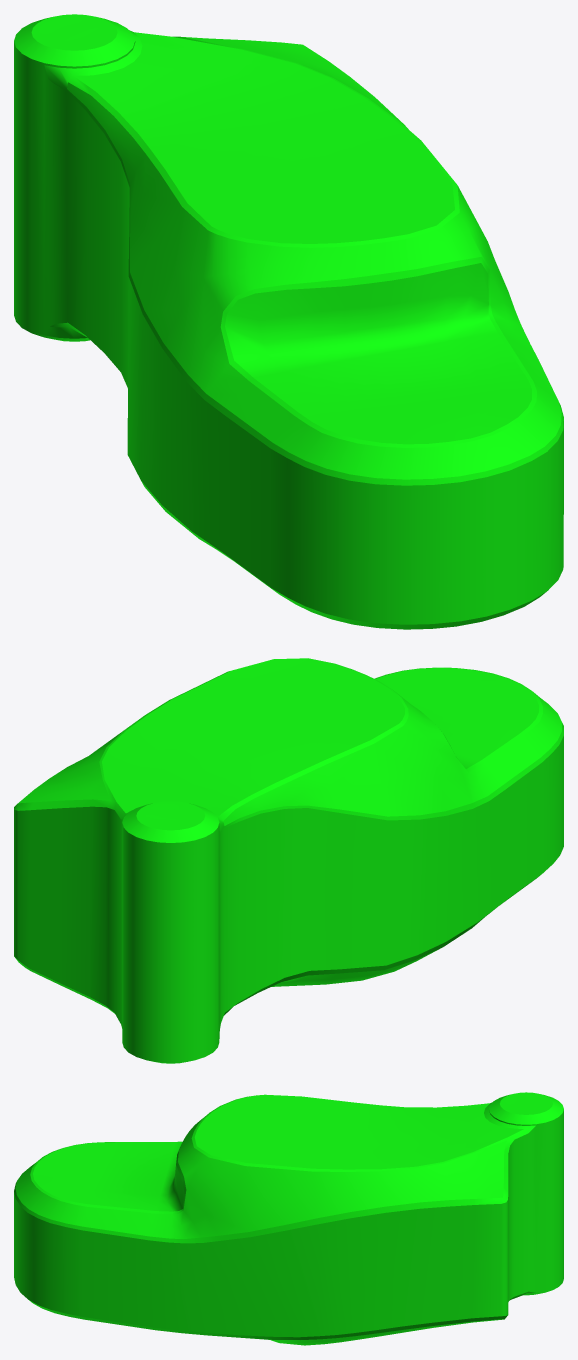
Rendered from RightThigh.obj.
The picture shows the model from 3 angles, top to bottom: view 1: azimuth 30°, elevation 25°; view 2: azimuth 150°, elevation 25°; view 3: azimuth 270°, elevation 25°; orthographic projection. The views are drawn at different scales.
Parts seen in each view (by area): view 1: RightThigh_Retopo; view 2: RightThigh_Retopo; view 3: RightThigh_Retopo.
Part boxes in pixels (<box>): RightThigh_Retopo: <box>14,14,563,629</box>; RightThigh_Retopo: <box>14,658,563,1063</box>; RightThigh_Retopo: <box>14,1092,563,1345</box>.
Bounding box in the file's own units: 0.1933 × 0.1649 × 0.4212.
